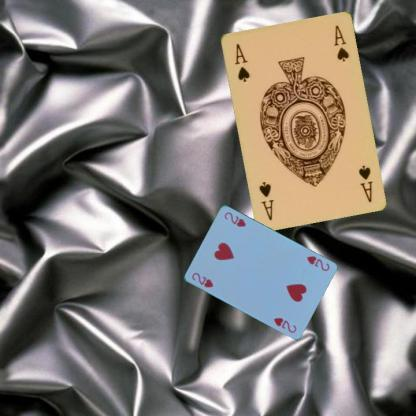2h: (304, 253, 330, 273), (189, 270, 214, 289)
As: (355, 162, 374, 204), (232, 40, 250, 84)
